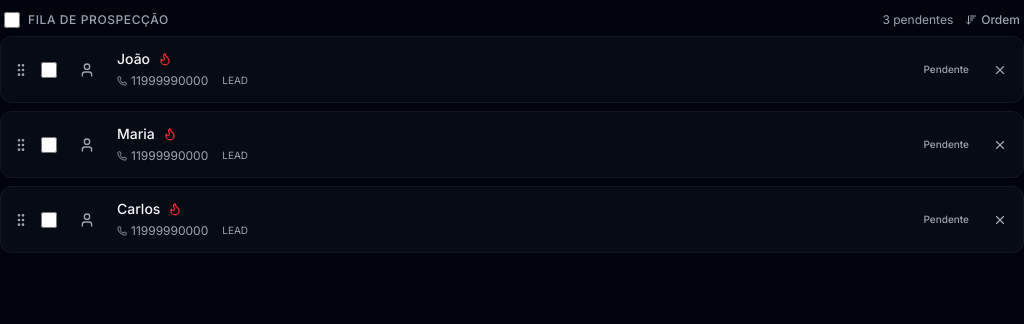
Scenario: CallQueue — batch selection (CP-4.5) › BatchActionsBar mostra plural para múltiplos selecionados
Click the checkbox named "Selecionar João" at (49, 70), box x1=41 y1=62 x2=57 y2=78
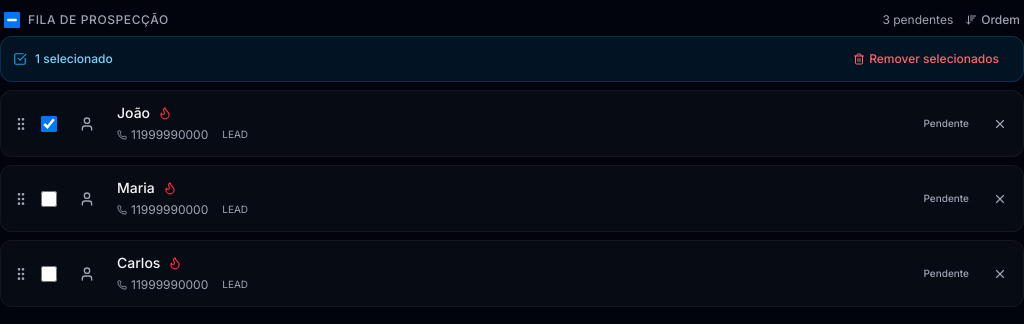
Click the checkbox named "Selecionar Maria" at (49, 198), box x1=41 y1=190 x2=57 y2=206
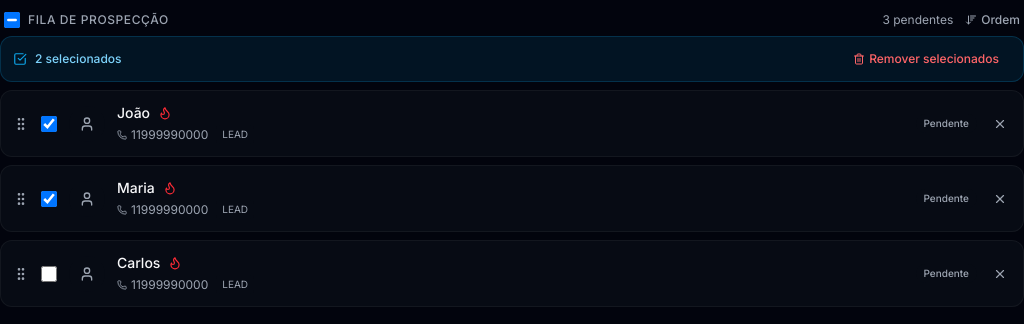
Check: the text "2 selecionados" is shown, box x1=35 y1=51 x2=122 y2=66
